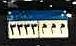3: (31, 23, 38, 36), (16, 23, 23, 35), (24, 23, 30, 35), (10, 23, 16, 35)
meem: (59, 23, 66, 34), (50, 23, 57, 34), (41, 23, 48, 34)
